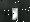person: (13, 9, 19, 21)
